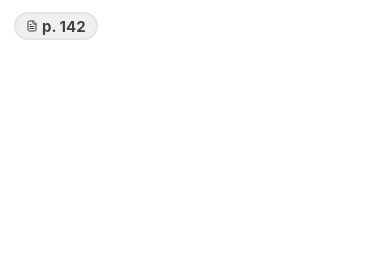
Test: ChipFonte com as fontes de um artefato (ingestao-do-material, 10.0) › sem as fontes, o chip diz "Material da escola" e a página
Click the button named "Fonte:" at (56, 26), box x1=14 y1=12 x2=98 y2=40
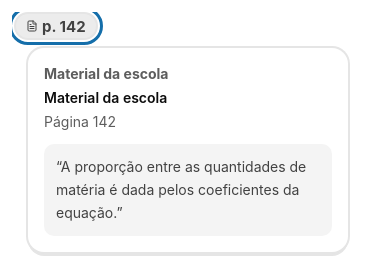
Expected: the element named "Fonte: Material da escola, p. 142" is shown
